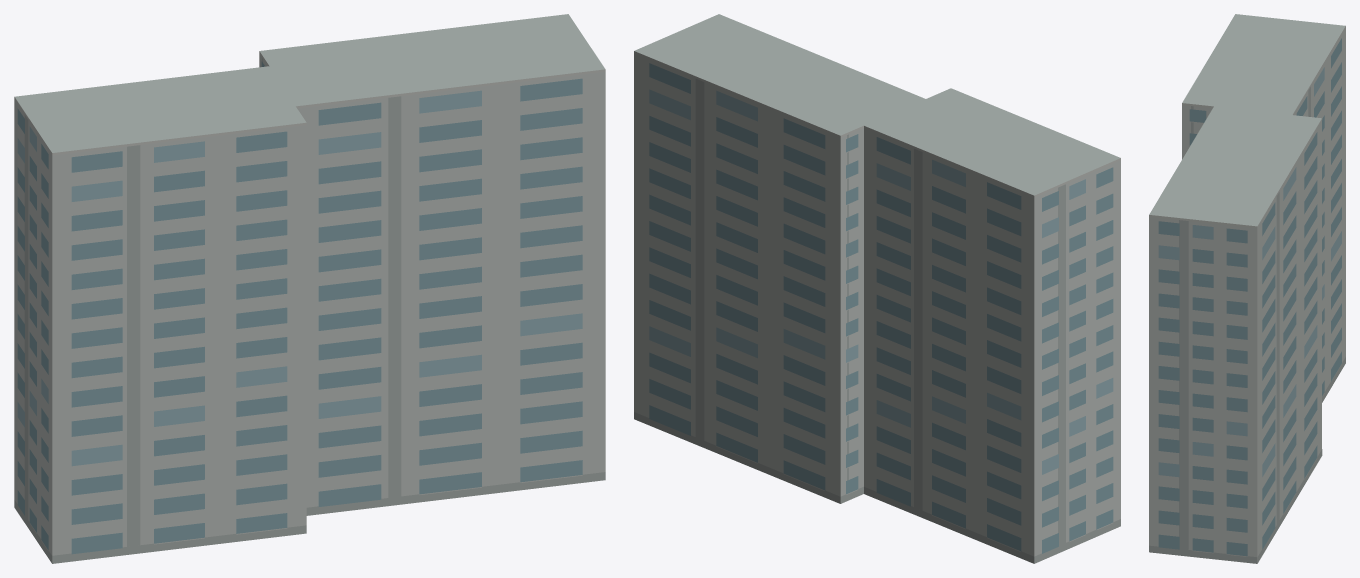
The model's file is residential-7d501df0-9927-4450-bcd6-bbb127efb809.glb.
The picture shows the model from 3 angles, left to right: view 1: azimuth 30°, elevation 25°; view 2: azimuth 150°, elevation 25°; view 3: azimuth 270°, elevation 25°; orthographic projection. The views are drawn at different scales.
Parts seen in each view (by area): view 1: residential-7d501df0-9927-4450-bcd6-bbb127efb809.tmp; view 2: residential-7d501df0-9927-4450-bcd6-bbb127efb809.tmp; view 3: residential-7d501df0-9927-4450-bcd6-bbb127efb809.tmp.
Part boxes in pixels (x1=…): residential-7d501df0-9927-4450-bcd6-bbb127efb809.tmp: x1=14, y1=14, x2=605, y2=563; residential-7d501df0-9927-4450-bcd6-bbb127efb809.tmp: x1=634, y1=14, x2=1120, y2=563; residential-7d501df0-9927-4450-bcd6-bbb127efb809.tmp: x1=1149, y1=14, x2=1345, y2=563.
Size of the model in its own units: 53.98 by 40 by 21.14.
